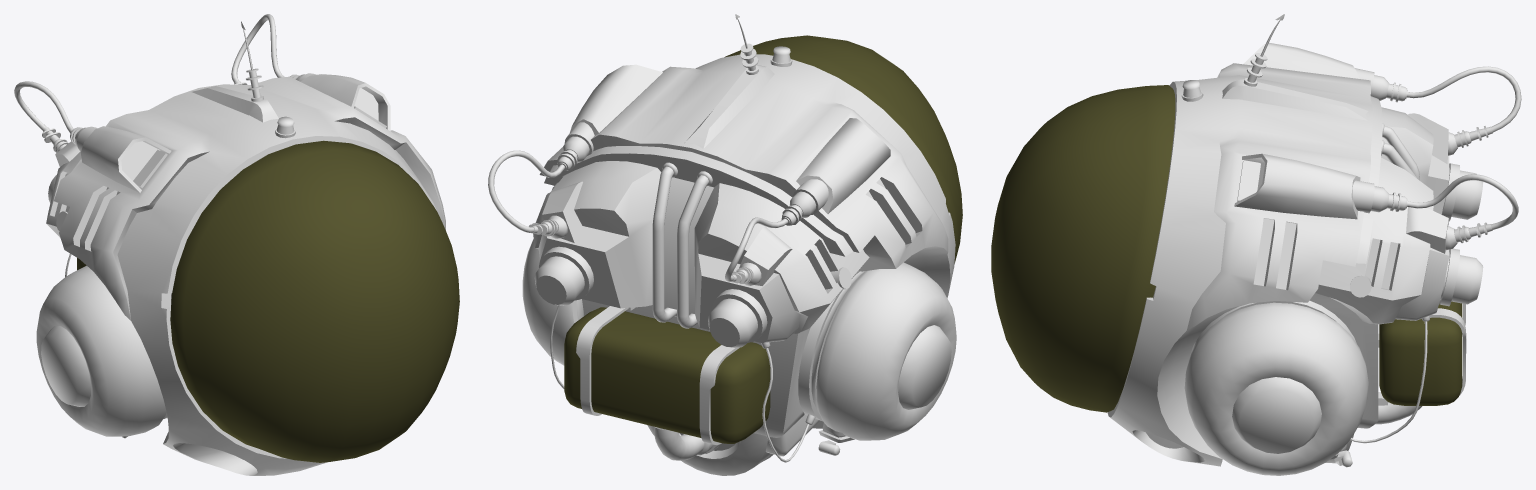
Rendered from ExplosionFrog.fbx.
3 views of the same model, side by side, from view 1: azimuth 30°, elevation 25°; view 2: azimuth 150°, elevation 25°; view 3: azimuth 270°, elevation 25° (orthographic). The views are drawn at different scales.
Parts seen in each view (by area): view 1: GlassHead_low, Body_A_low, polySurface2; view 2: Body_A_low, polySurface2, Glass_low.001, GlassHead_low, polySurface1; view 3: Body_A_low, GlassHead_low, polySurface1, Glass_low.001.
Boxes of the visible parts, bbox=[...] form: GlassHead_low: bbox=[170, 140, 459, 462]; Body_A_low: bbox=[14, 14, 445, 475]; polySurface2: bbox=[36, 265, 166, 436]; Body_A_low: bbox=[488, 14, 955, 475]; polySurface2: bbox=[811, 262, 956, 440]; Glass_low.001: bbox=[564, 307, 770, 443]; GlassHead_low: bbox=[724, 35, 962, 263]; polySurface1: bbox=[522, 239, 583, 365]; Body_A_low: bbox=[1107, 14, 1521, 466]; GlassHead_low: bbox=[991, 85, 1175, 412]; polySurface1: bbox=[1184, 302, 1368, 475]; Glass_low.001: bbox=[1379, 301, 1462, 405].
Bounding box in the file's own units: 76.5 × 81.98 × 89.09.
